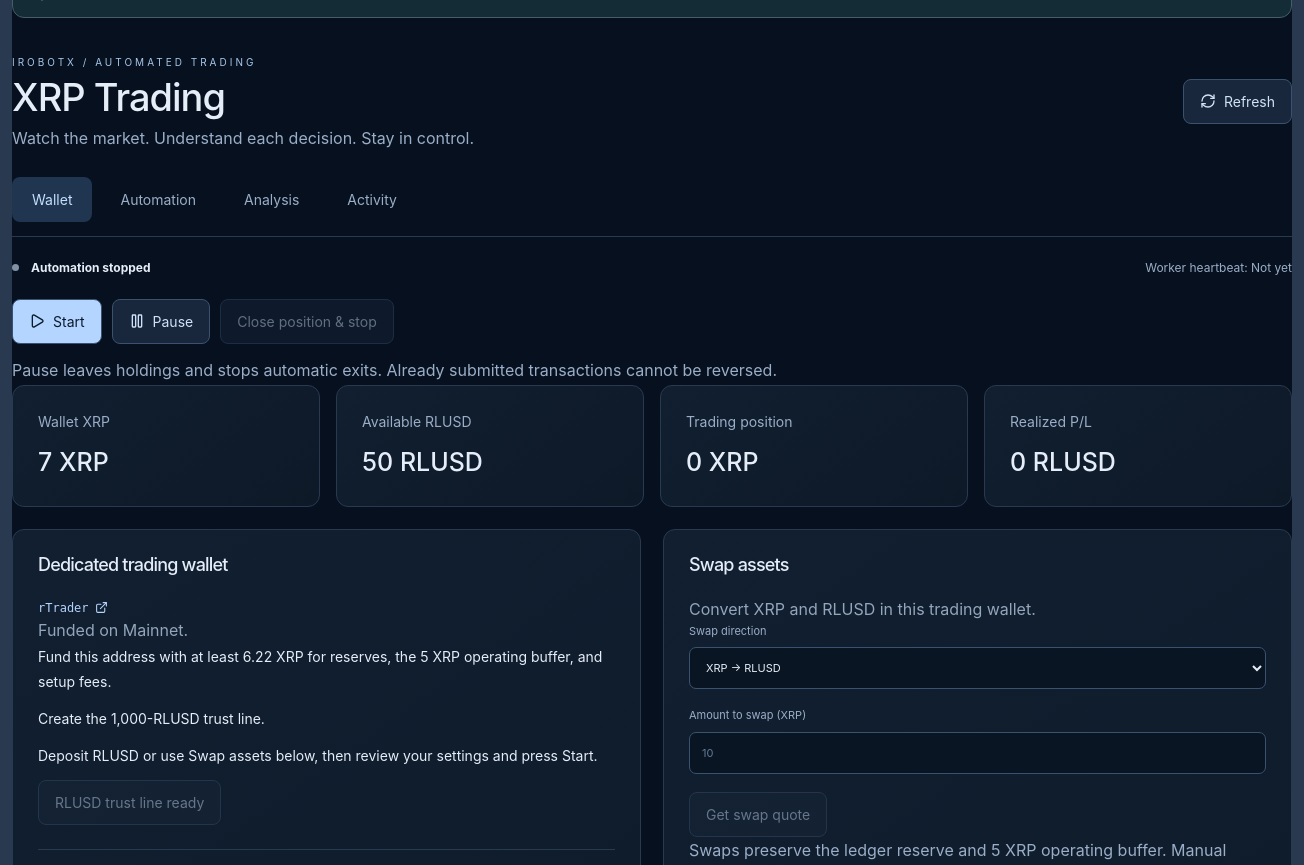
Scenario: Mainnet trading workspace › shows explanations and API usage in Analysis
This screenshot has width=1304, height=865.
Check: the text "7 XRP" is shown, box [38, 447, 109, 477]
Step 1. Click the button "Analysis" → (272, 199), box [224, 177, 319, 222]
(page scrolled)
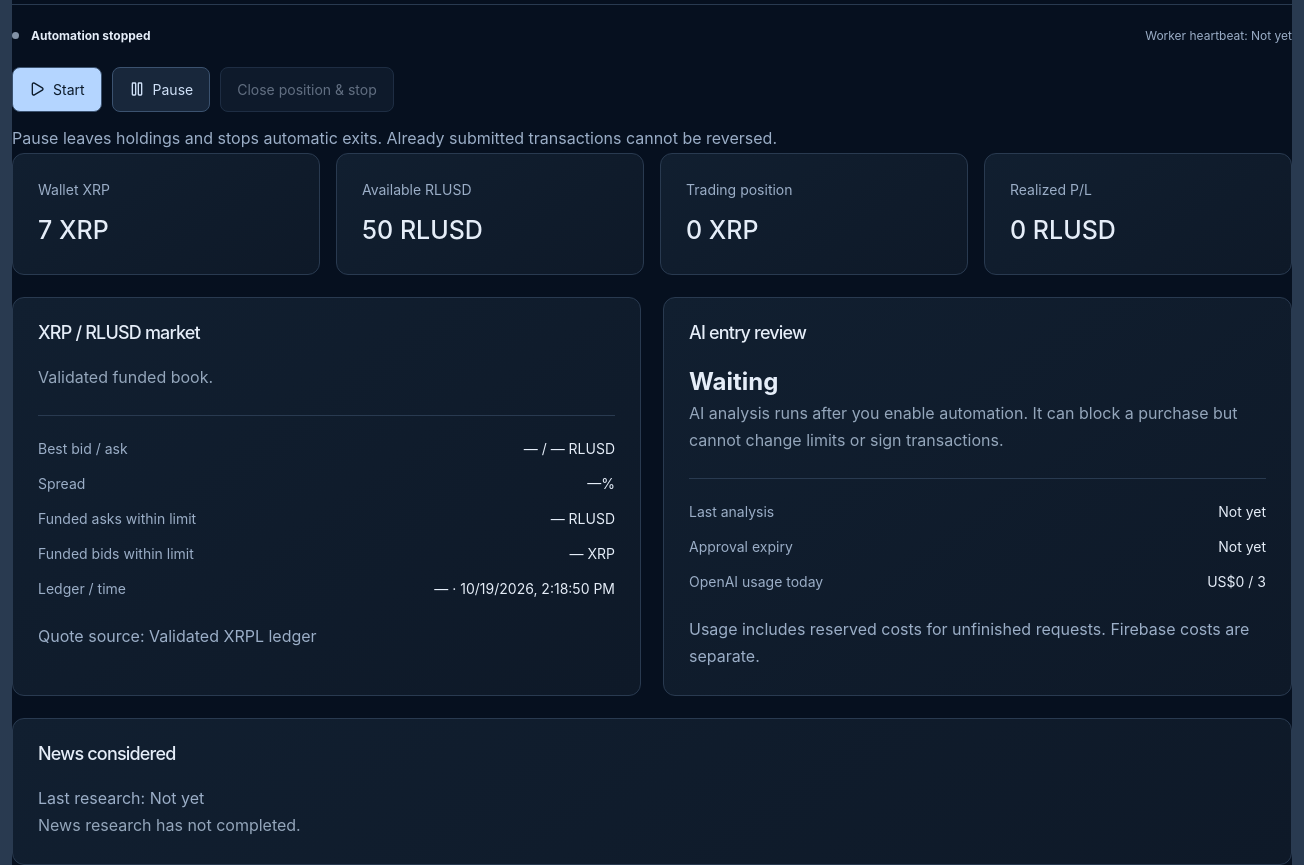
Check: the heading "AI entry review" is shown, box [689, 322, 806, 343]
Check: the text "News research has not completed." is shown, box [38, 815, 301, 835]
